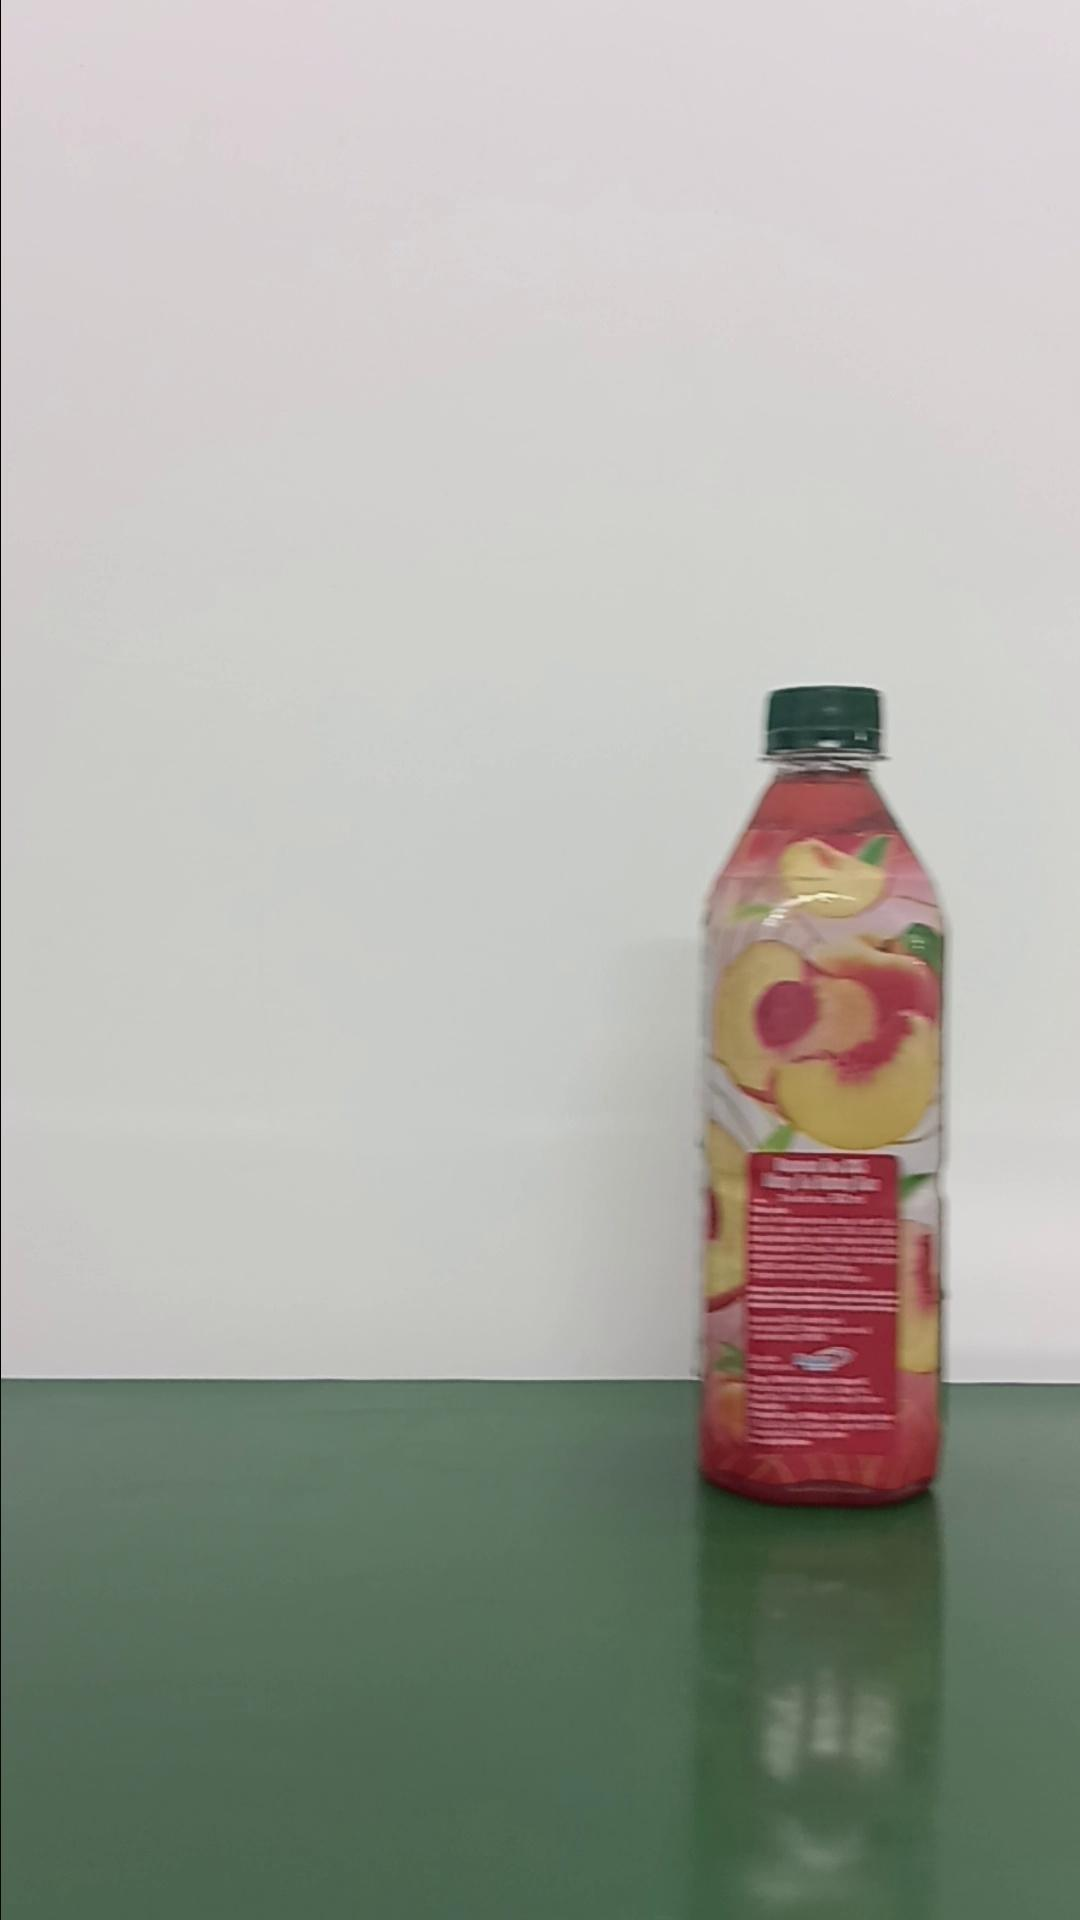khong loi: (694, 680, 948, 1509)
